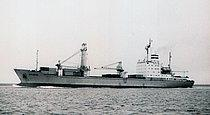Ship: (12, 29, 198, 93)
